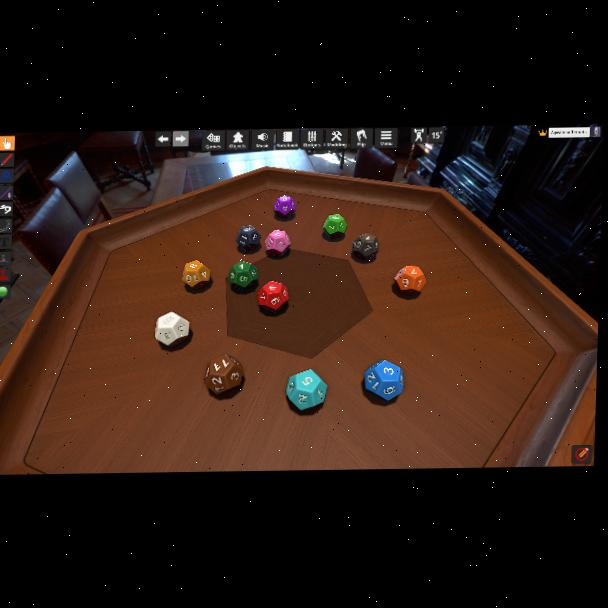d12: (285, 369, 325, 410), (368, 359, 407, 399), (203, 353, 242, 392), (154, 311, 190, 346), (257, 281, 289, 313), (228, 261, 258, 291), (181, 260, 210, 290), (393, 266, 422, 294), (351, 234, 378, 261), (264, 229, 291, 256), (236, 225, 262, 251), (323, 214, 346, 238), (273, 195, 296, 218)
